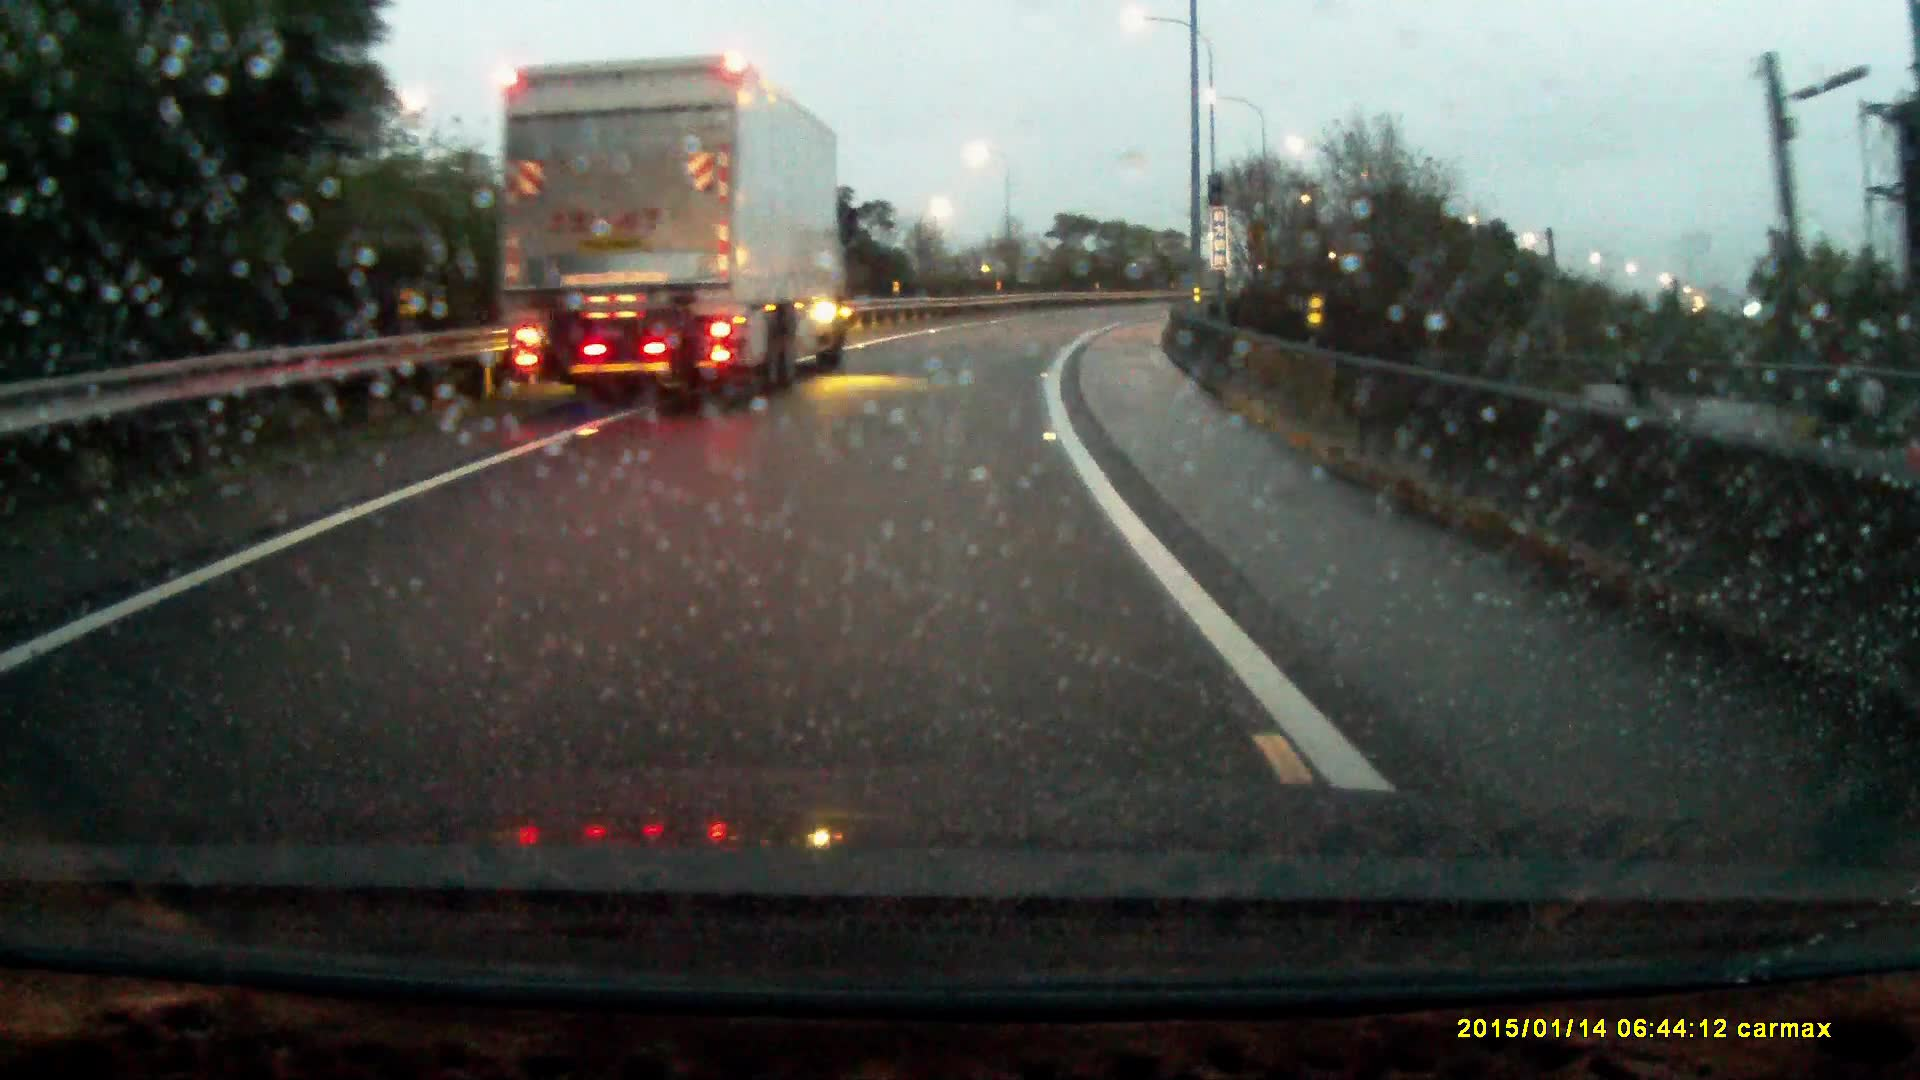vehicle: (492, 55, 849, 400)
